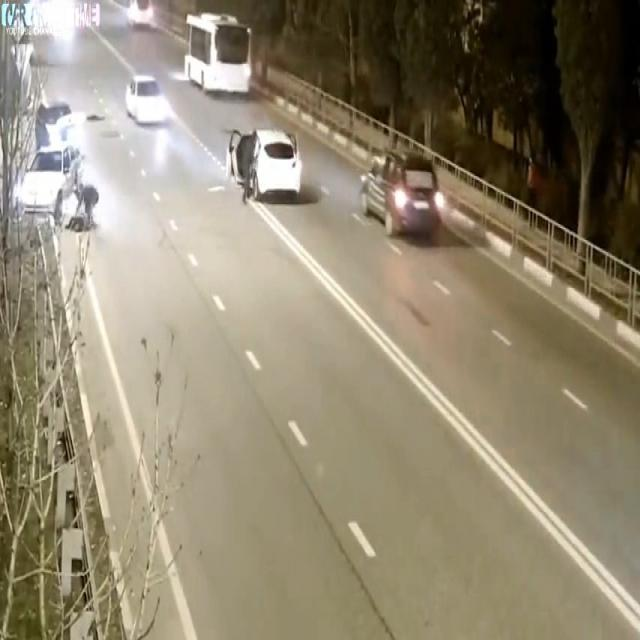Accident: (23, 90, 119, 239)
